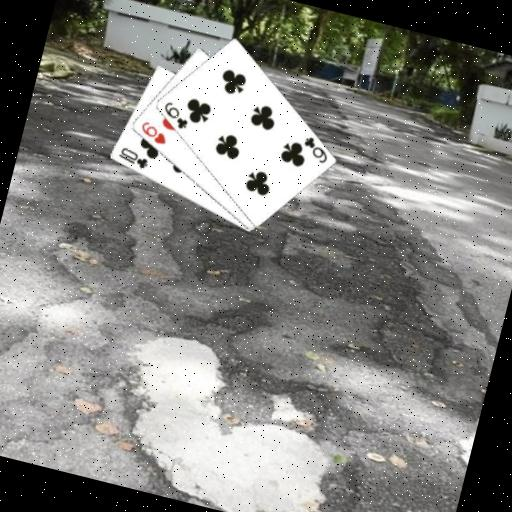10C: (113, 143, 152, 171)
6C: (157, 98, 194, 132), (297, 132, 333, 166)
6H: (135, 117, 172, 147)
